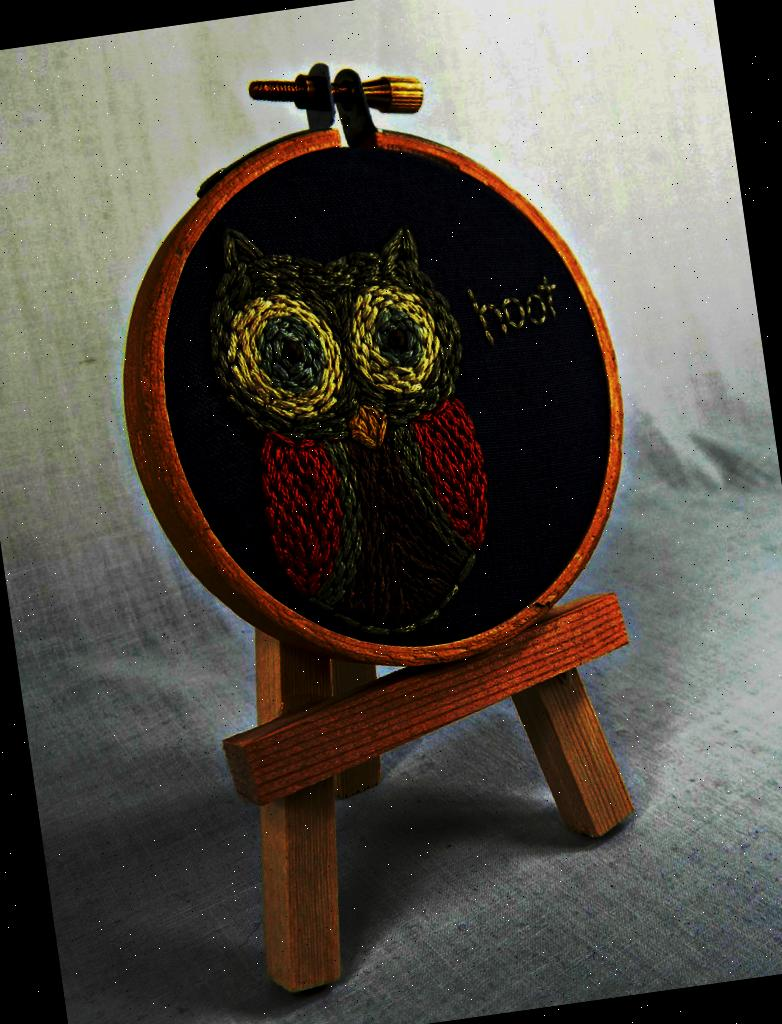Owl: (189, 190, 508, 662)
